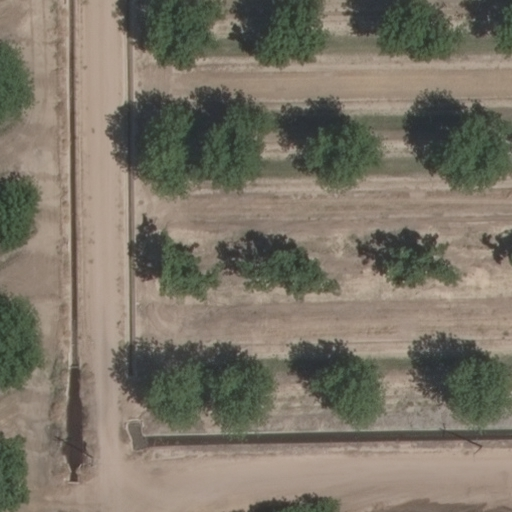DT: (70, 438, 101, 467), (459, 434, 485, 455)
